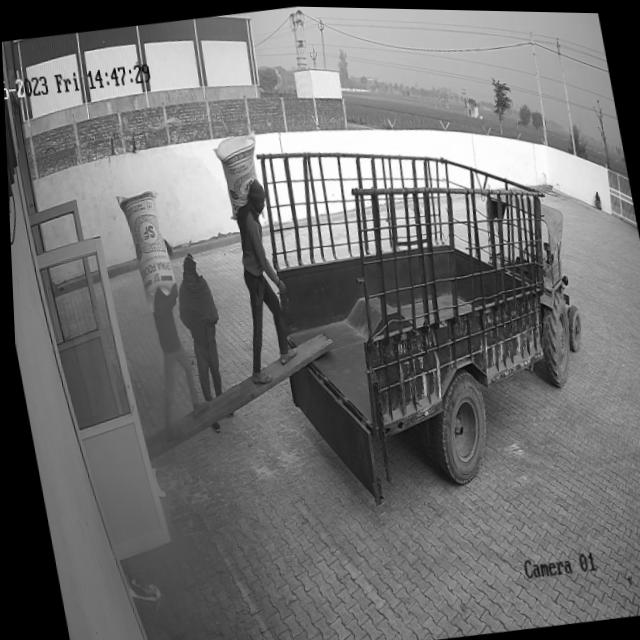sack: (112, 188, 176, 312), (210, 132, 266, 224)
